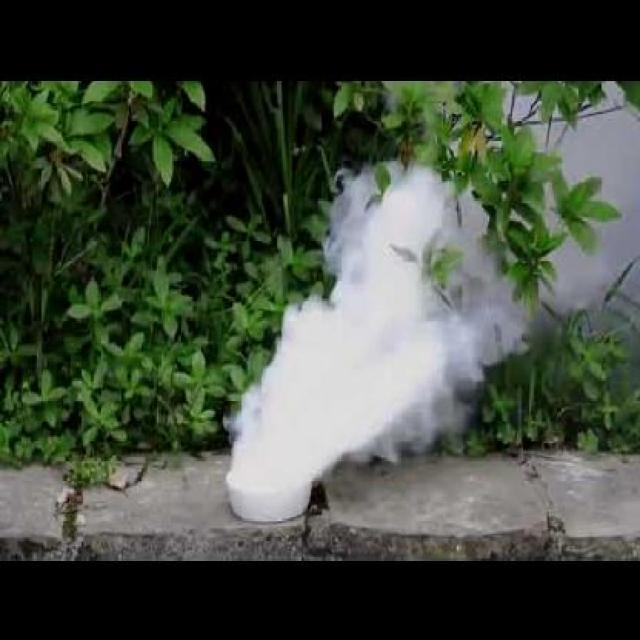Smoke: (226, 78, 640, 494)
